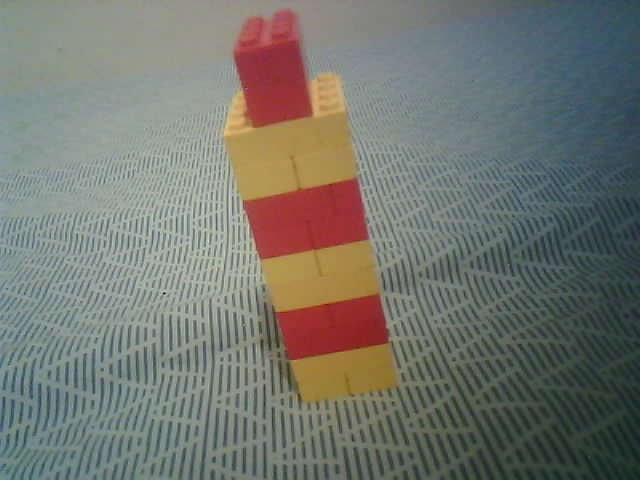lego: (222, 8, 401, 405)
